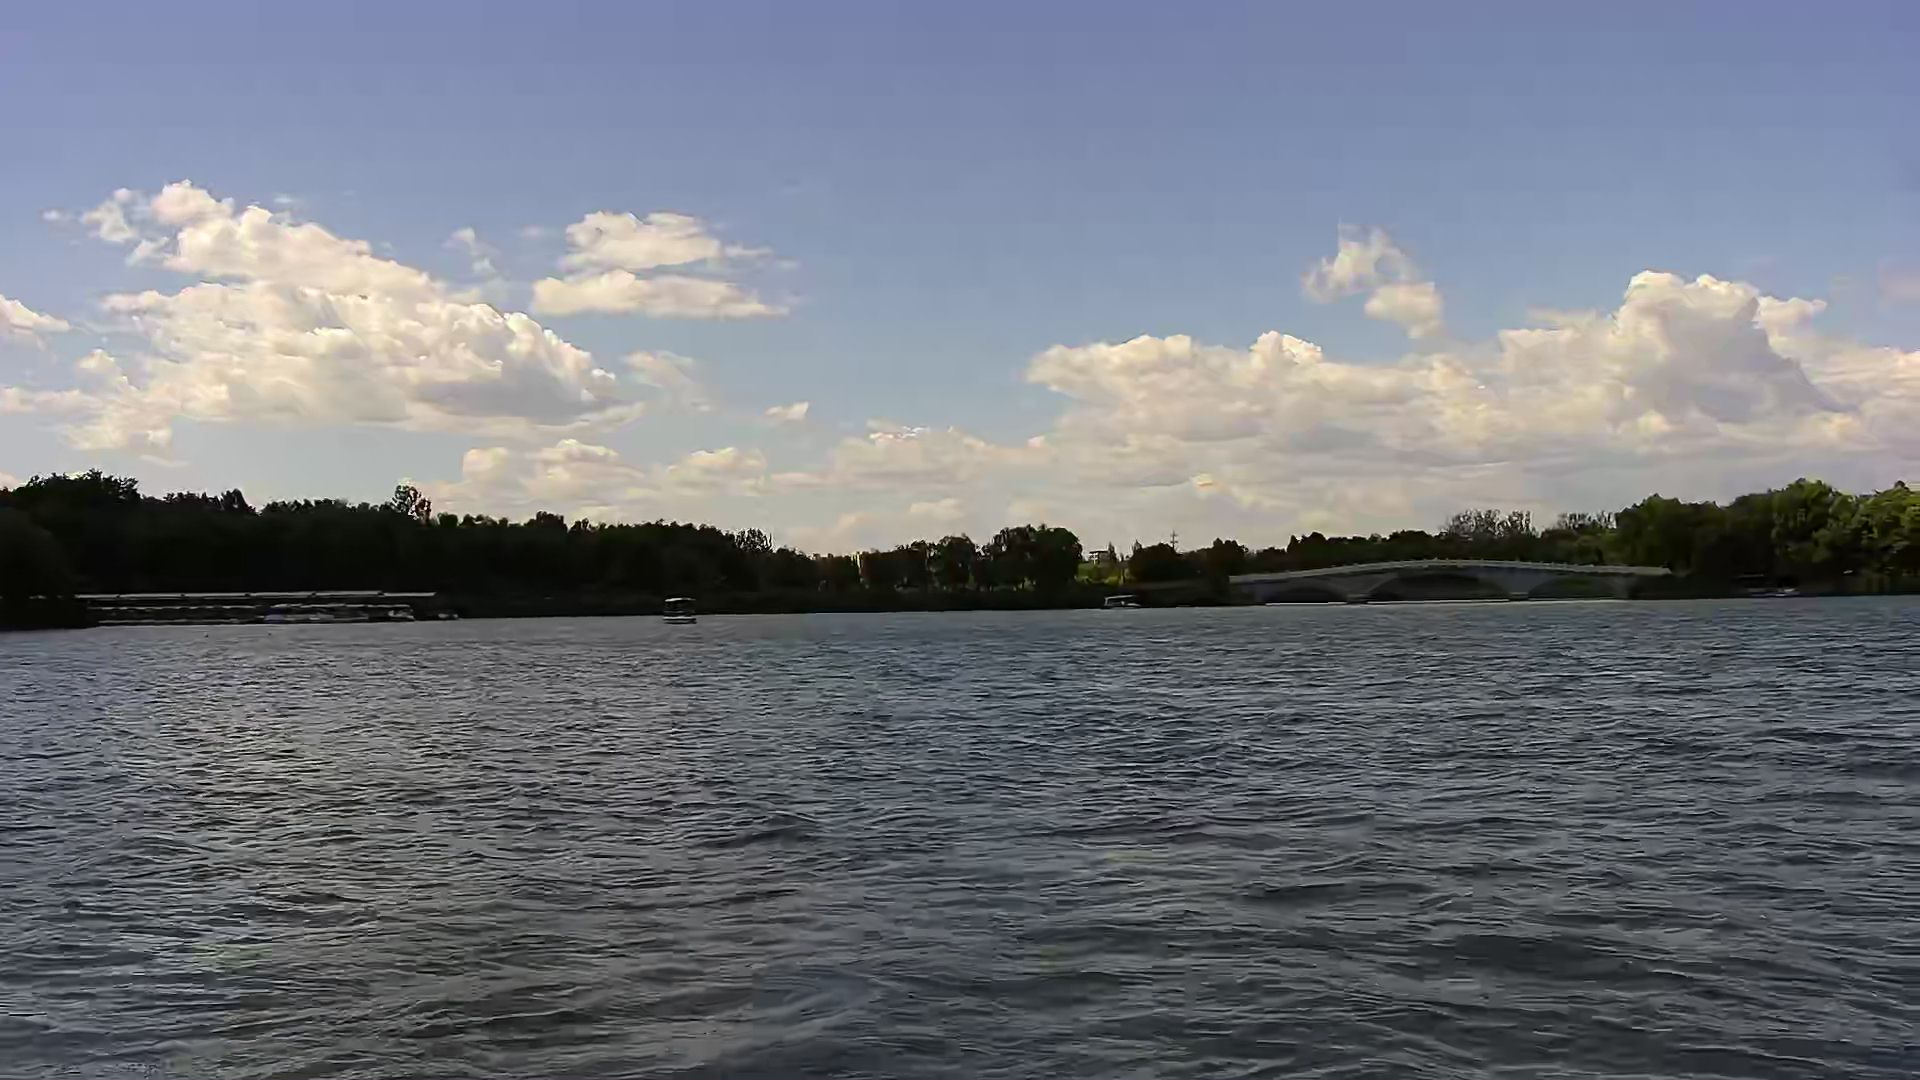boat: (659, 589, 703, 630)
bridge: (1229, 560, 1692, 604)
harbor: (76, 585, 450, 622)
